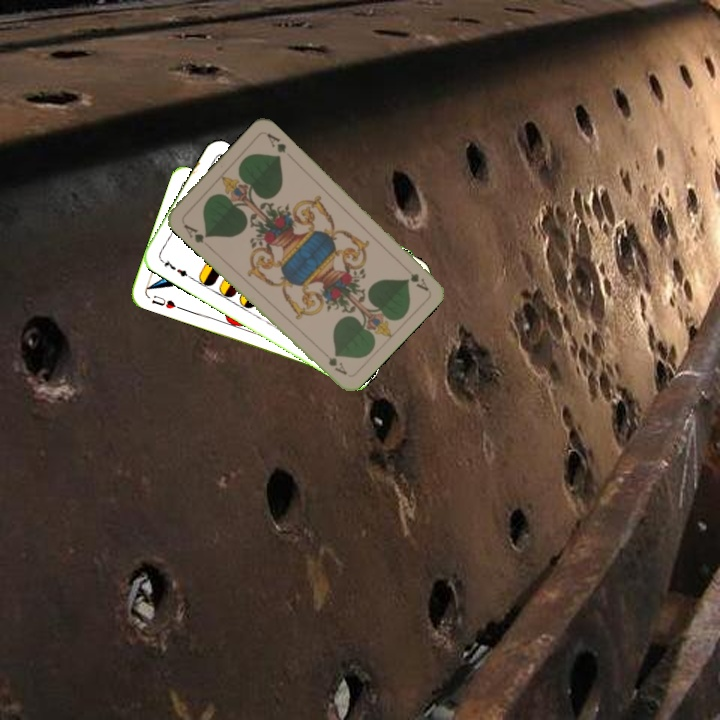E7: (156, 255, 193, 281)
GA: (179, 220, 211, 246), (406, 269, 431, 293)
HU: (147, 291, 183, 312)
